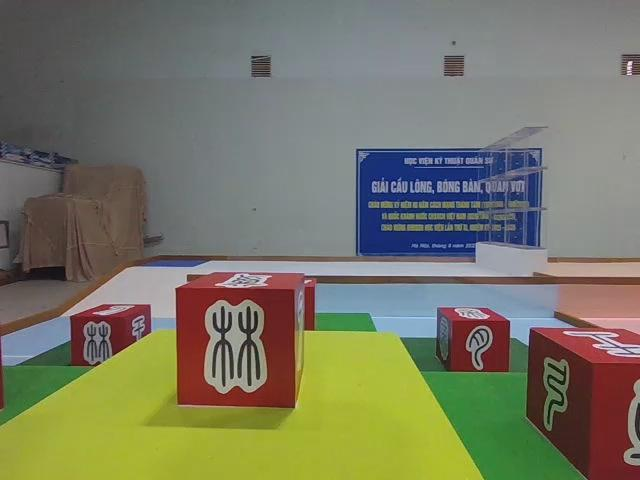R2 Fake: (172, 268, 308, 412), (522, 323, 640, 480), (68, 300, 153, 368), (435, 304, 513, 375)
